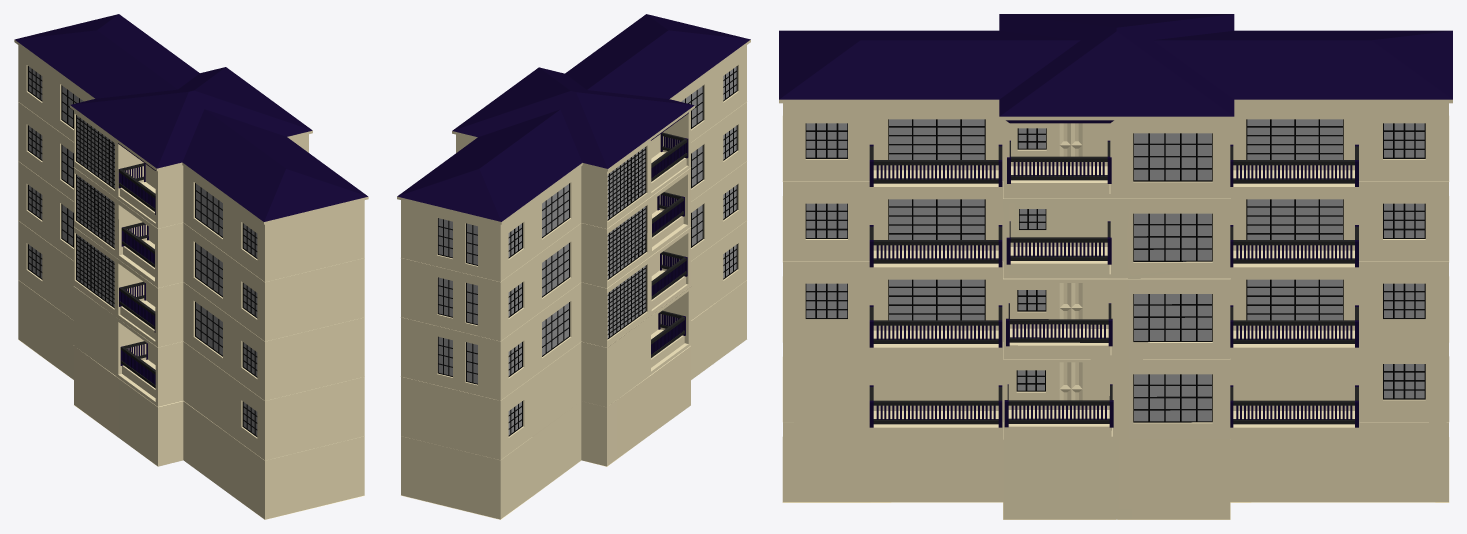
Rendered from Legacy.fbx.
3 renders of one model, left to right at view 1: azimuth 30°, elevation 25°; view 2: azimuth 150°, elevation 25°; view 3: azimuth 270°, elevation 25°, orthographic. The views are drawn at different scales.
Visible parts, largest first — view 1: building_003; view 2: building_003; view 3: building_003.
Boxes of the visible parts, x1,y1,x2,y2 form: building_003: (14,14,368,519); building_003: (397,14,750,519); building_003: (779,14,1452,519).
Bounding box in the file's own units: 617 × 1225 × 1698.
